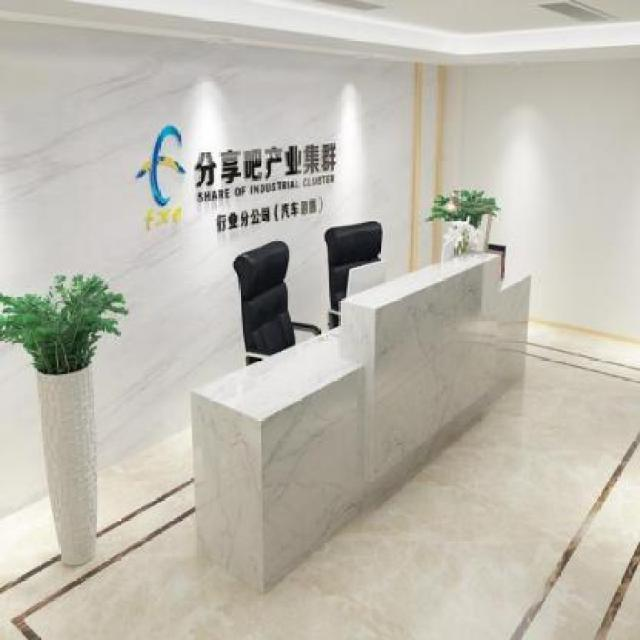frontdesk: (186, 239, 540, 596)
